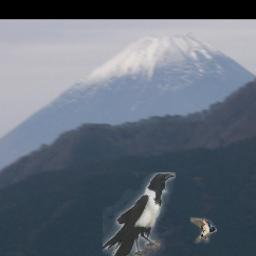Crow: (102, 172, 175, 256)
Swallow: (189, 218, 216, 246)
